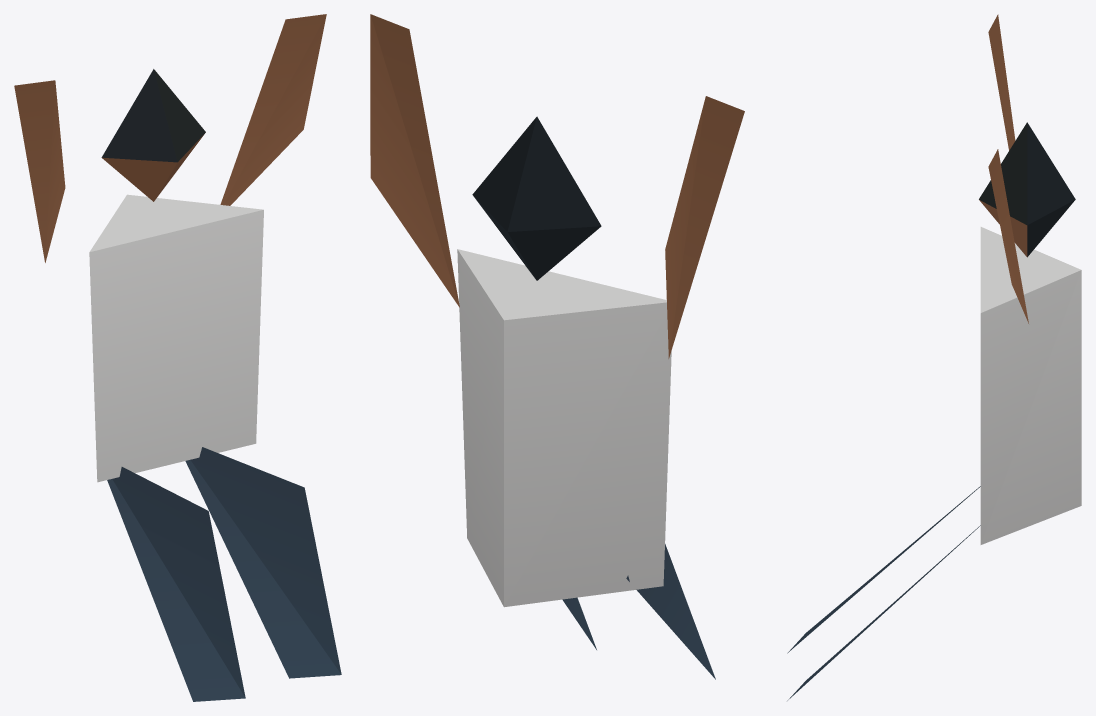
The model's file is fan-02.glb.
3 renders of one model, left to right at view 1: azimuth 30°, elevation 25°; view 2: azimuth 150°, elevation 25°; view 3: azimuth 270°, elevation 25°, orthographic. The views are drawn at different scales.
Visible parts, largest first — view 1: fan-02; view 2: fan-02; view 3: fan-02.
Part boxes in pixels (x1=…): fan-02: x1=14, y1=14, x2=341, y2=701; fan-02: x1=370, y1=14, x2=744, y2=679; fan-02: x1=787, y1=14, x2=1081, y2=700.
Size of the model in its own units: 0.93 by 1.64 by 0.76.
